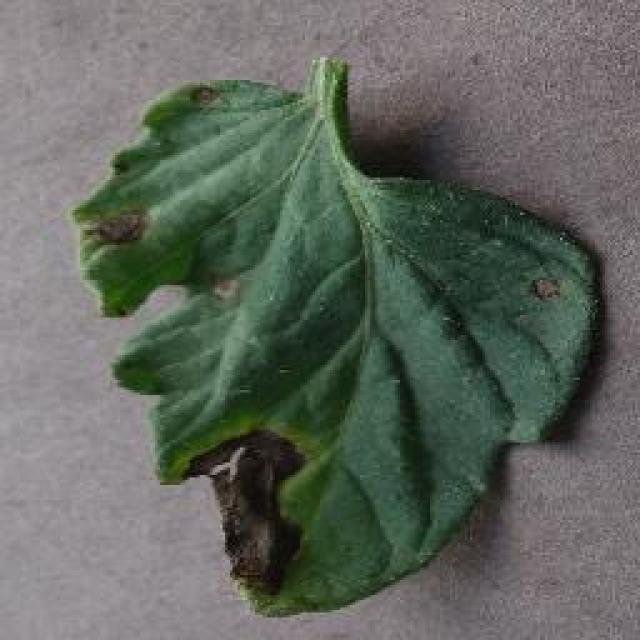Tomato___Early_blight: (65, 56, 601, 628)
